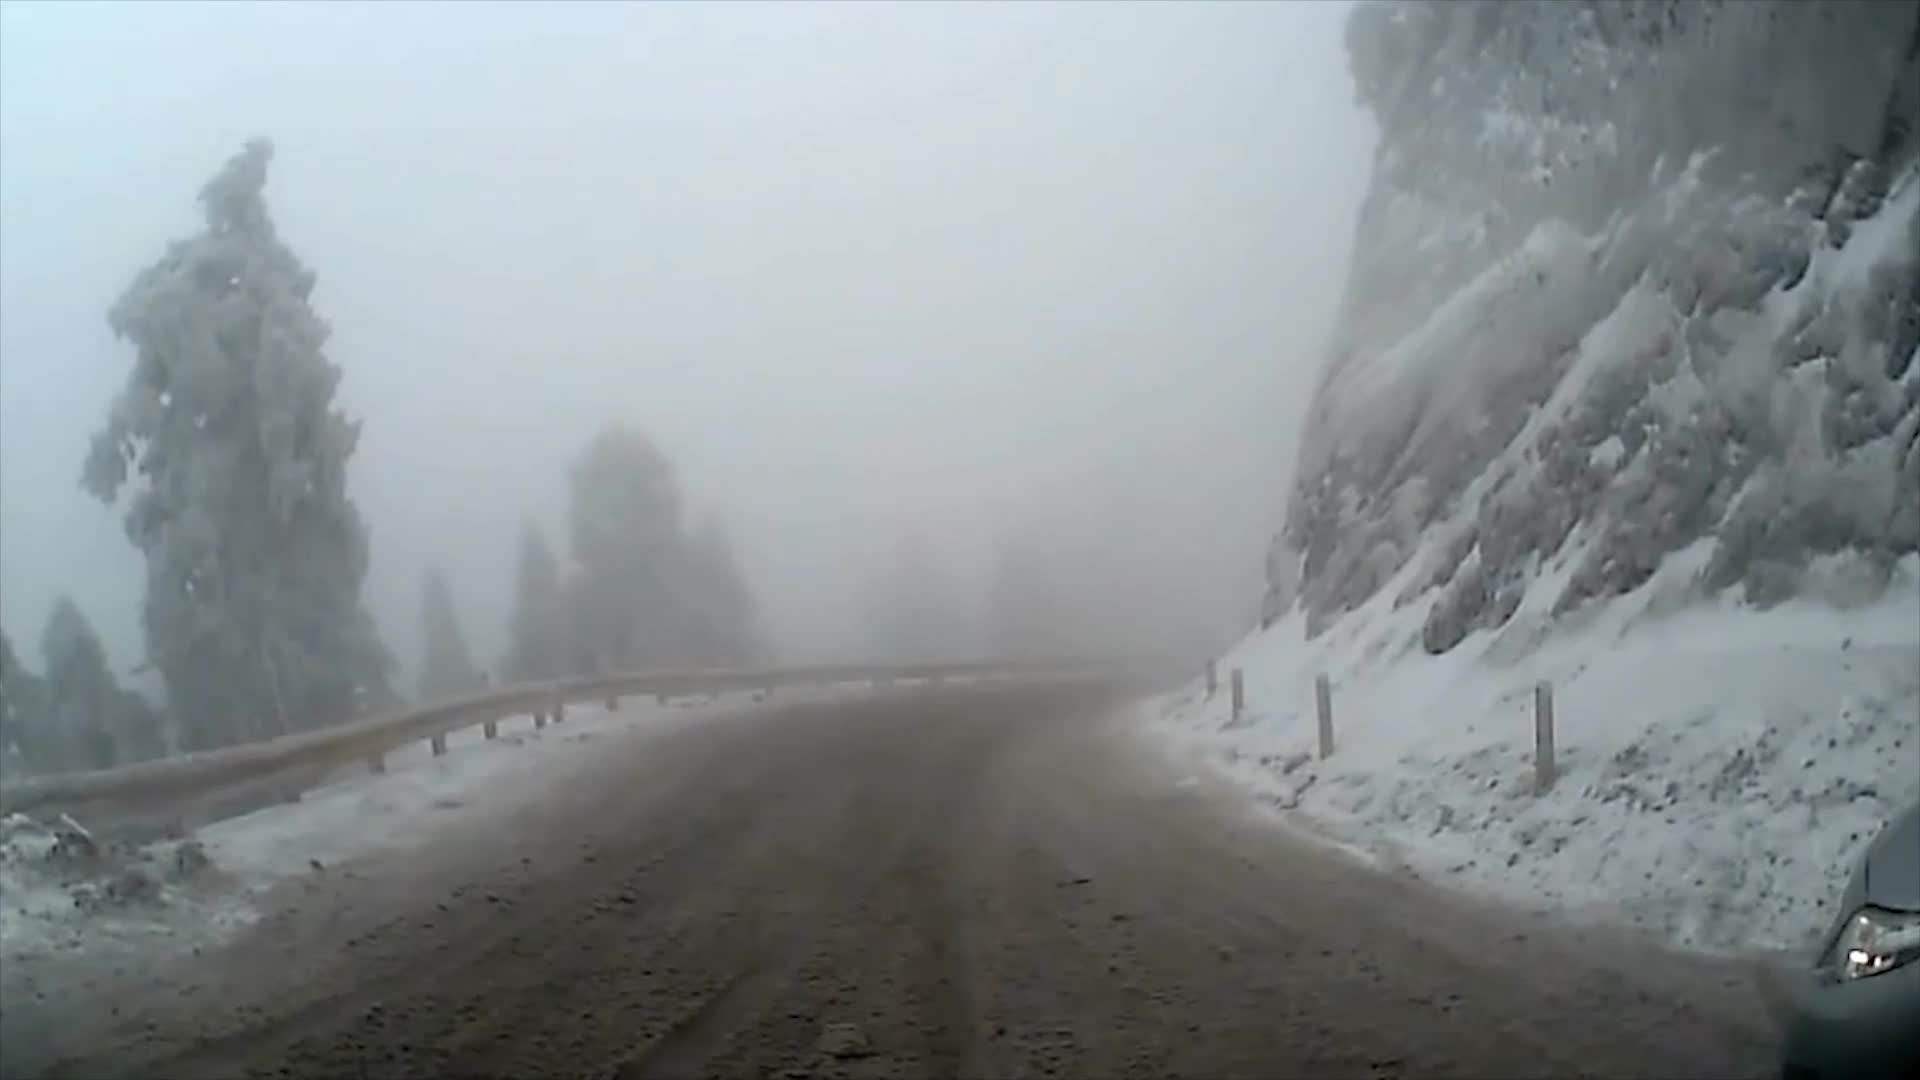vehicle: (1776, 799, 1919, 1079)
